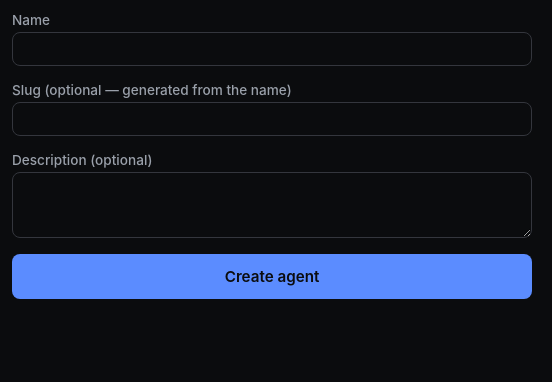
Scenario: CreateAgentForm › announces a general error as an alert
Step 1. Type "A" into the field labelled "Name" → coordinates (272, 49), box left=12, top=32, right=532, bottom=66
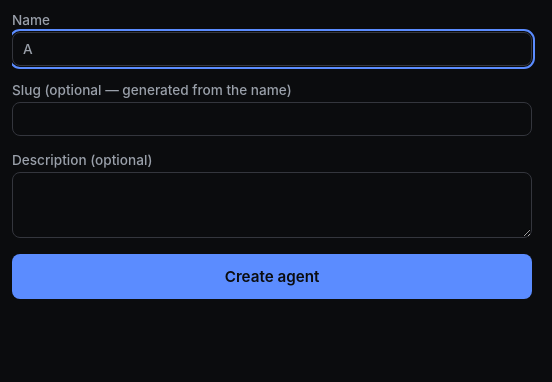
Step 2. Click the button "Create agent" → coordinates (272, 276), box left=12, top=254, right=532, bottom=299
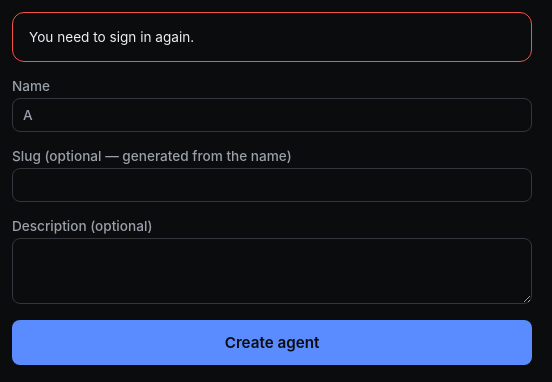
Now the message reads "You need to sign in again.", box left=29, top=29, right=194, bottom=45
